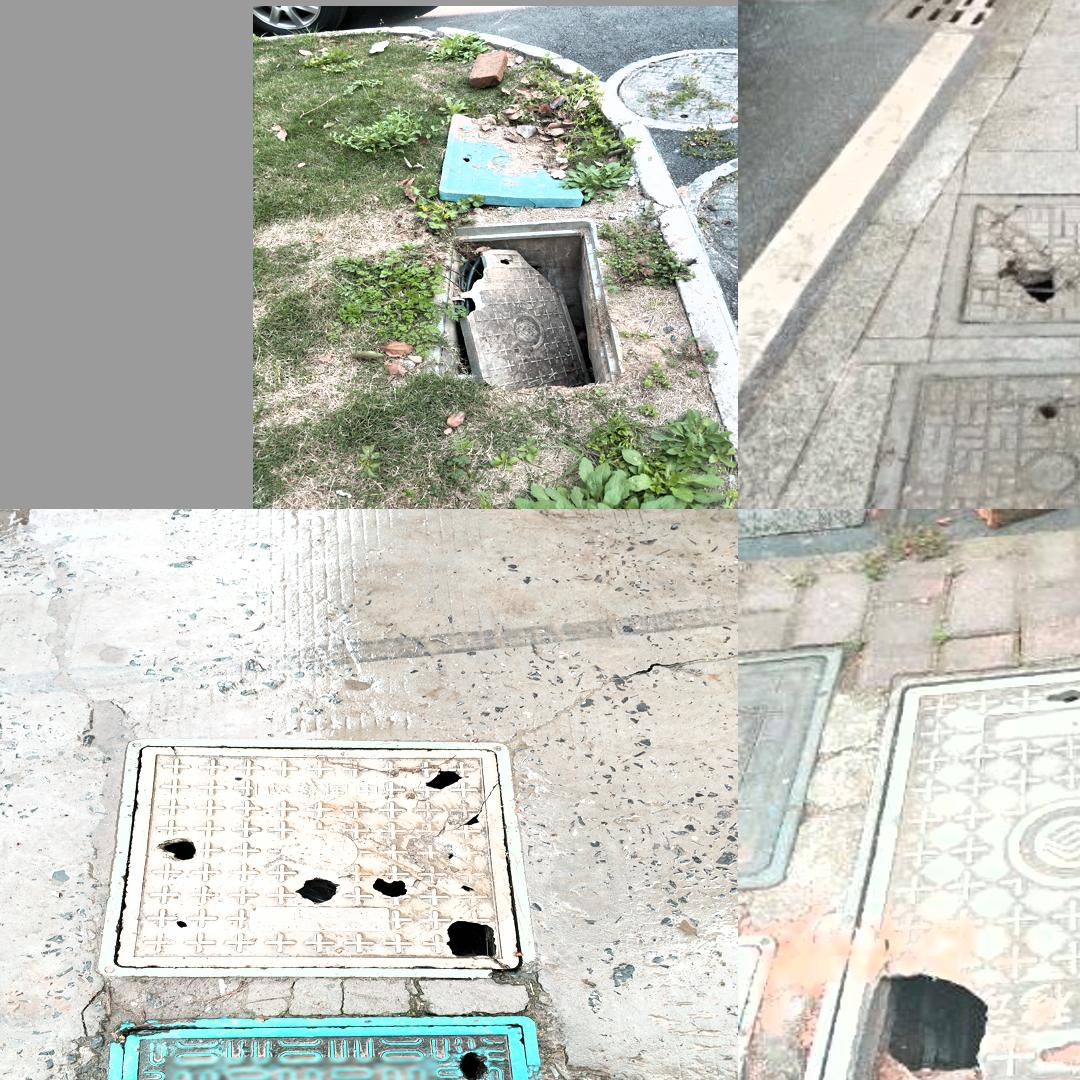broke: (793, 642, 1080, 1080), (97, 737, 527, 981), (416, 215, 633, 388), (856, 353, 1080, 509), (923, 191, 1080, 333)
